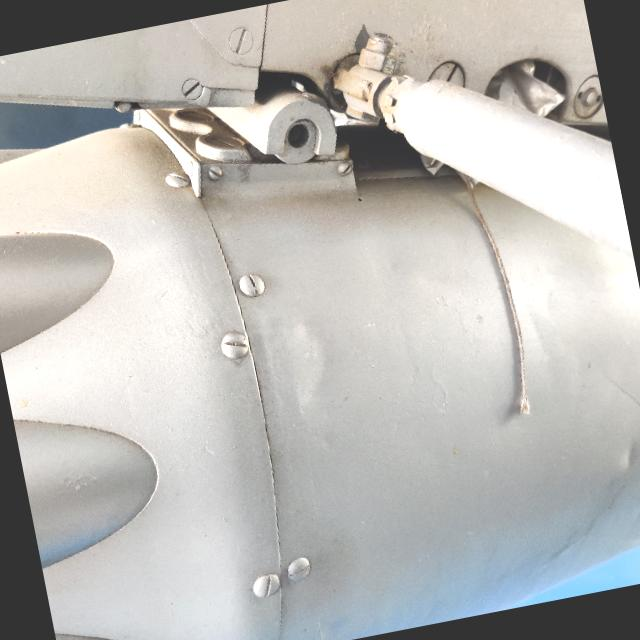dent: (259, 301, 357, 423)
